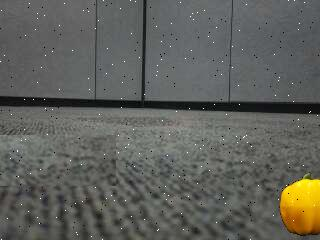Capsicum: (276, 166, 320, 236)
